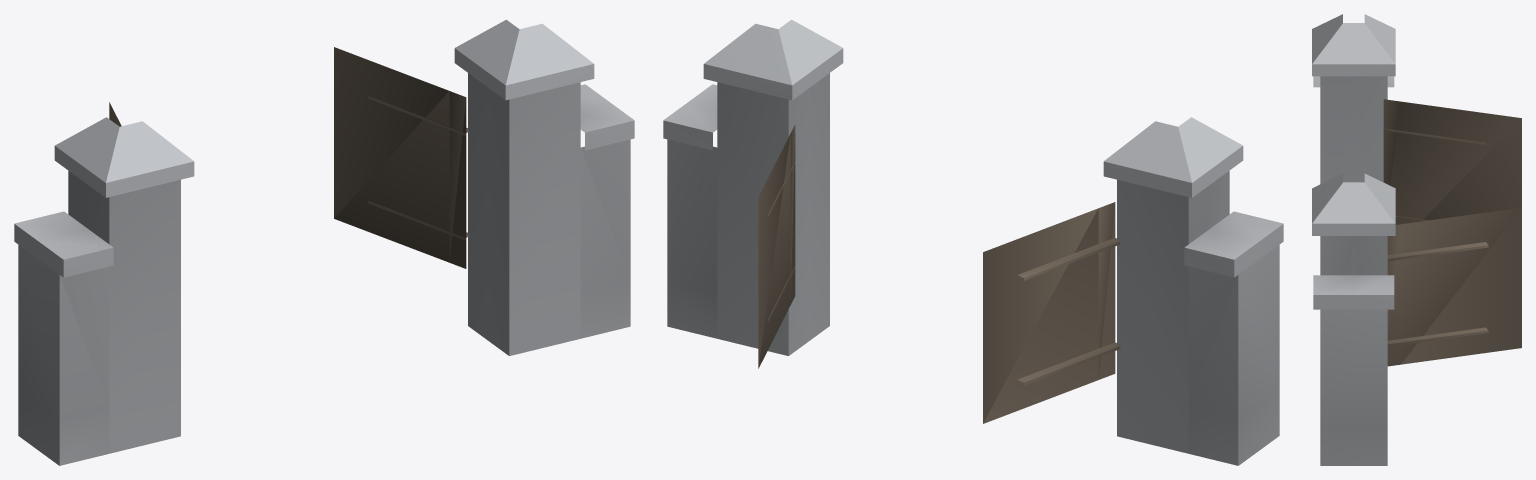
Rendered from sg_yard_gate.glb.
3 renders of one model, left to right at view 1: azimuth 30°, elevation 25°; view 2: azimuth 150°, elevation 25°; view 3: azimuth 270°, elevation 25°, orthographic. The views are drawn at different scales.
Parts seen in each view (by area): view 1: sg_yard_gate_SG_Stone, sg_yard_gate_SG_Joinery; view 2: sg_yard_gate_SG_Stone, sg_yard_gate_SG_Joinery; view 3: sg_yard_gate_SG_Joinery, sg_yard_gate_SG_Stone.
Part boxes in pixels (x1=…): sg_yard_gate_SG_Stone: x1=14, y1=19, x2=634, y2=465; sg_yard_gate_SG_Joinery: x1=109, y1=47, x2=469, y2=268; sg_yard_gate_SG_Stone: x1=663, y1=19, x2=1283, y2=465; sg_yard_gate_SG_Joinery: x1=758, y1=124, x2=1120, y2=423; sg_yard_gate_SG_Joinery: x1=1383, y1=99, x2=1521, y2=366; sg_yard_gate_SG_Stone: x1=1312, y1=14, x2=1395, y2=465.
Bounding box in the file's own units: 4 × 2.08 × 1.56.
